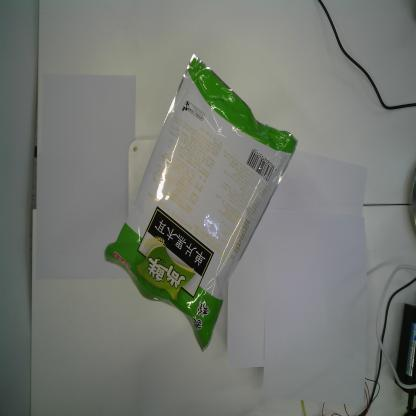Dried Food: (103, 49, 299, 356)
